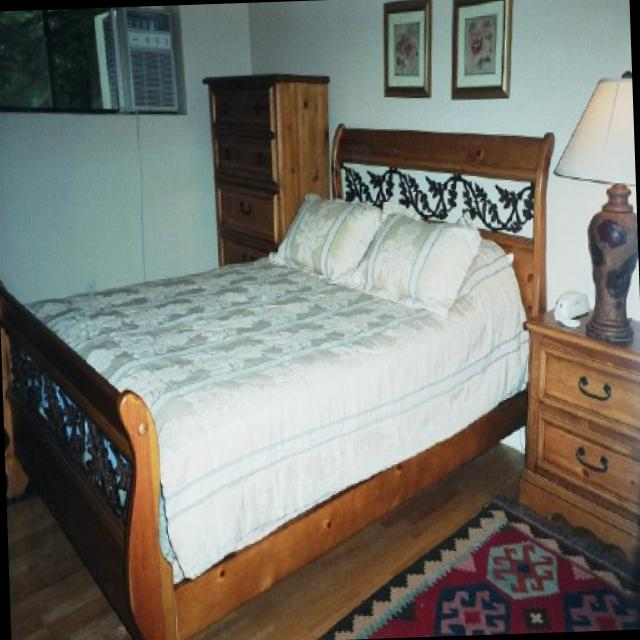2001: (0, 7, 185, 113)
bed -occluded-: (5, 116, 557, 640)
carpet floor: (319, 498, 640, 637)
chest: (204, 72, 330, 255)
floor -X: (11, 311, 640, 640)
lamp occluded: (555, 73, 637, 343)
night table crop: (518, 304, 640, 563)
picture crop: (450, 0, 510, 94), (383, 0, 427, 95)
pillow occluded: (351, 210, 478, 322), (281, 192, 382, 285)
telephone booth: (553, 287, 591, 325)
wall clock: (248, 0, 640, 507), (0, 4, 261, 394)
